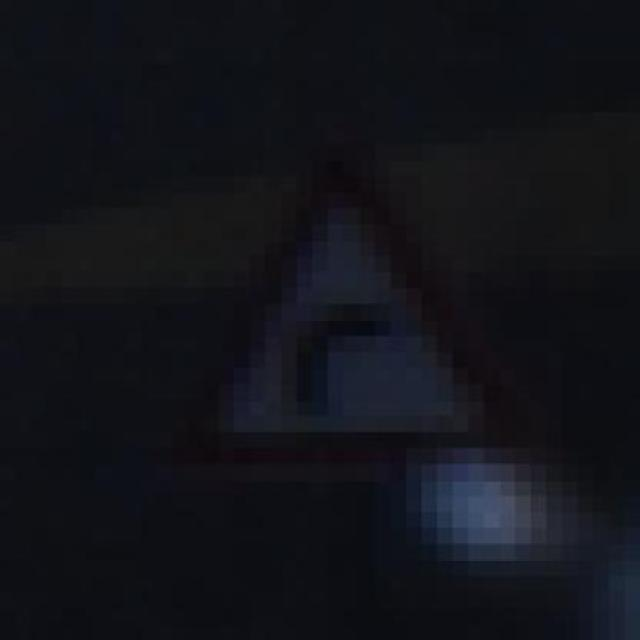Dangerous Rright Curve Ahead: (140, 112, 531, 480)
